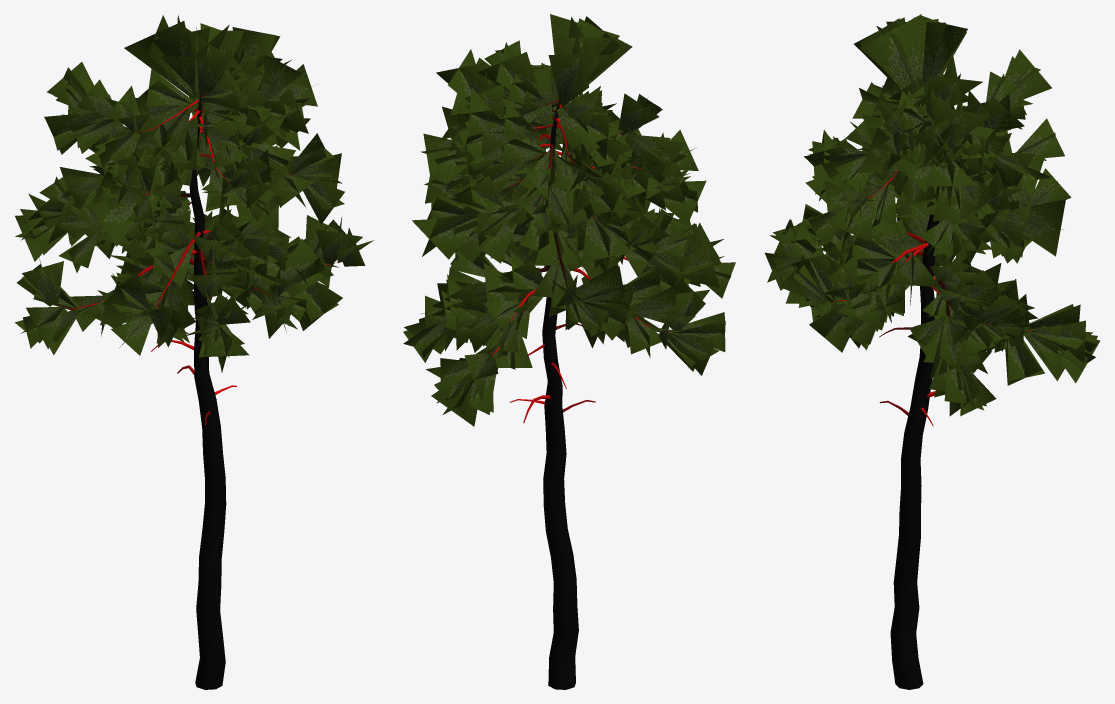
Rendered from pine1 lod0.FBX.
3 renders of one model, left to right at view 1: azimuth 30°, elevation 25°; view 2: azimuth 150°, elevation 25°; view 3: azimuth 270°, elevation 25°, orthographic.
Parts seen in each view (by area): view 1: pine1; view 2: pine1; view 3: pine1.
Boxes of the visible parts, x1,y1,x2,y2 form: pine1: (15,15,373,689); pine1: (403,14,735,689); pine1: (765,14,1099,689).
Size of the model in its own units: 123763 by 259174 by 119641.
